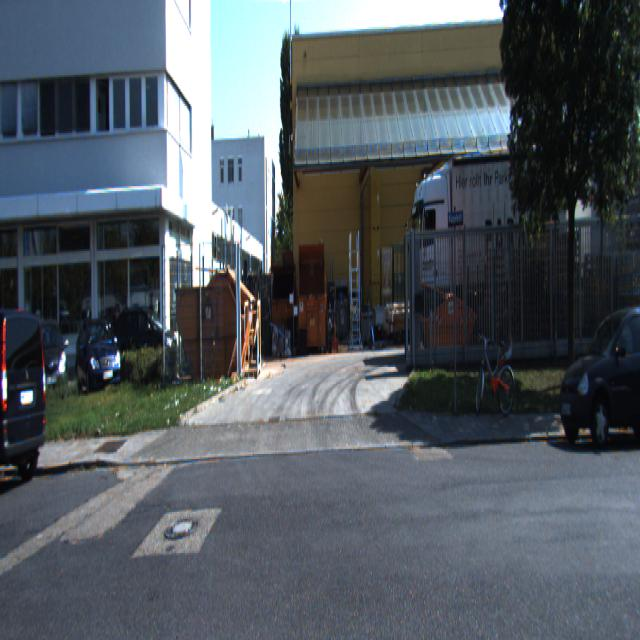Car: (556, 306, 640, 450), (0, 307, 49, 504), (75, 315, 122, 405)
